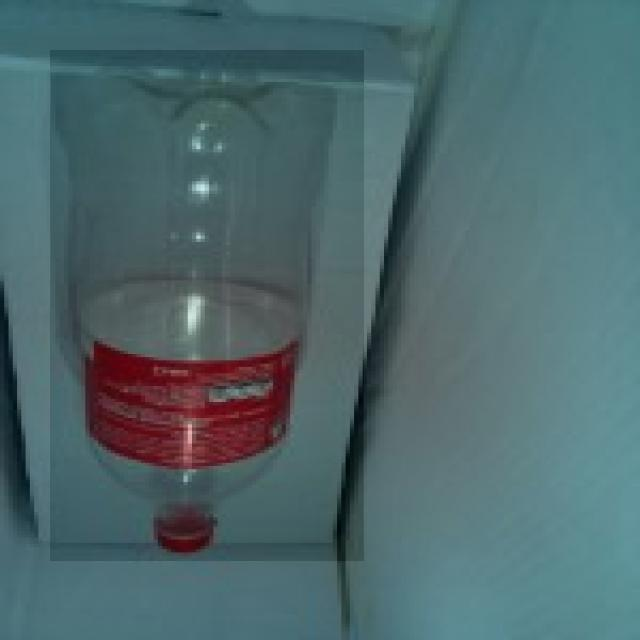bottle: (50, 48, 364, 560)
